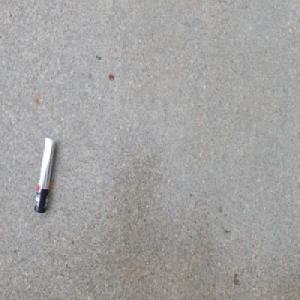Battery: (31, 135, 56, 218)
